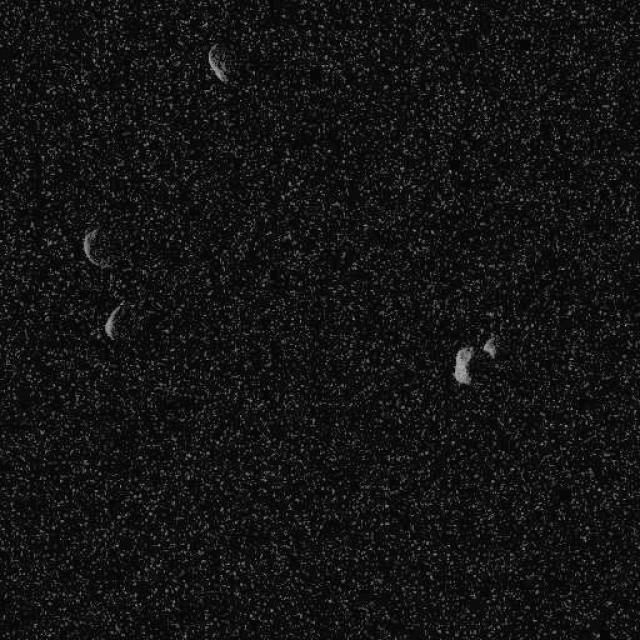D2: (81, 225, 110, 269), (206, 41, 232, 85), (451, 344, 474, 385), (101, 301, 124, 340), (482, 335, 498, 359)
